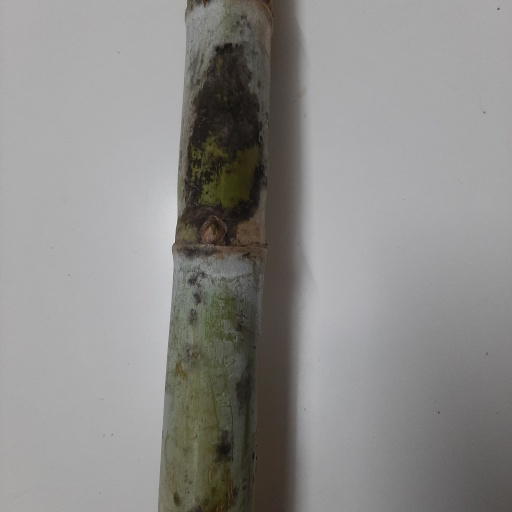Bud: (198, 216, 224, 243)
